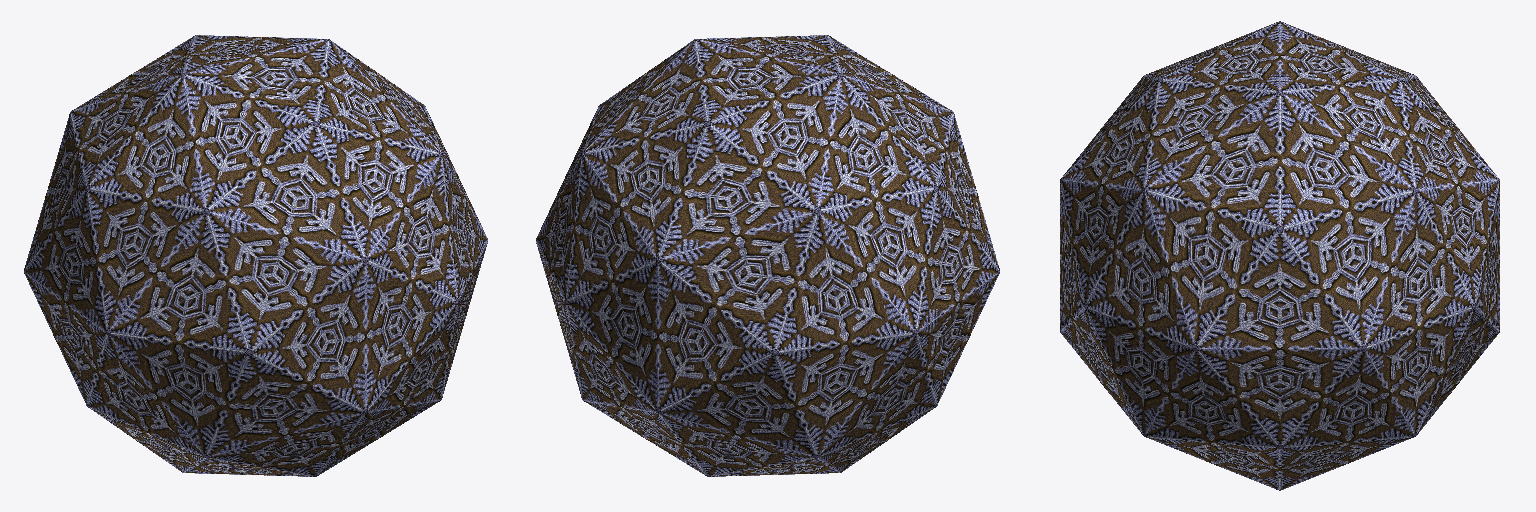
3 renders of one model, left to right at view 1: azimuth 30°, elevation 25°; view 2: azimuth 150°, elevation 25°; view 3: azimuth 270°, elevation 25°, orthographic.
Bounding box in the file's own units: 4.85 × 4.85 × 4.85.
Materials: 1 (1 with a texture image).